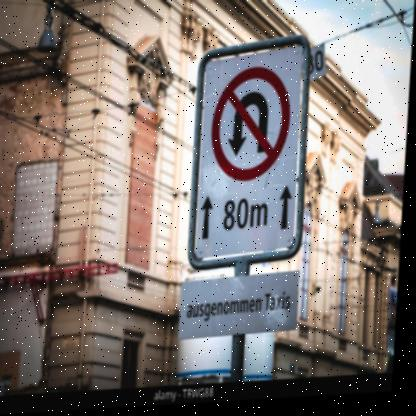No U-turn: (209, 65, 299, 190)
